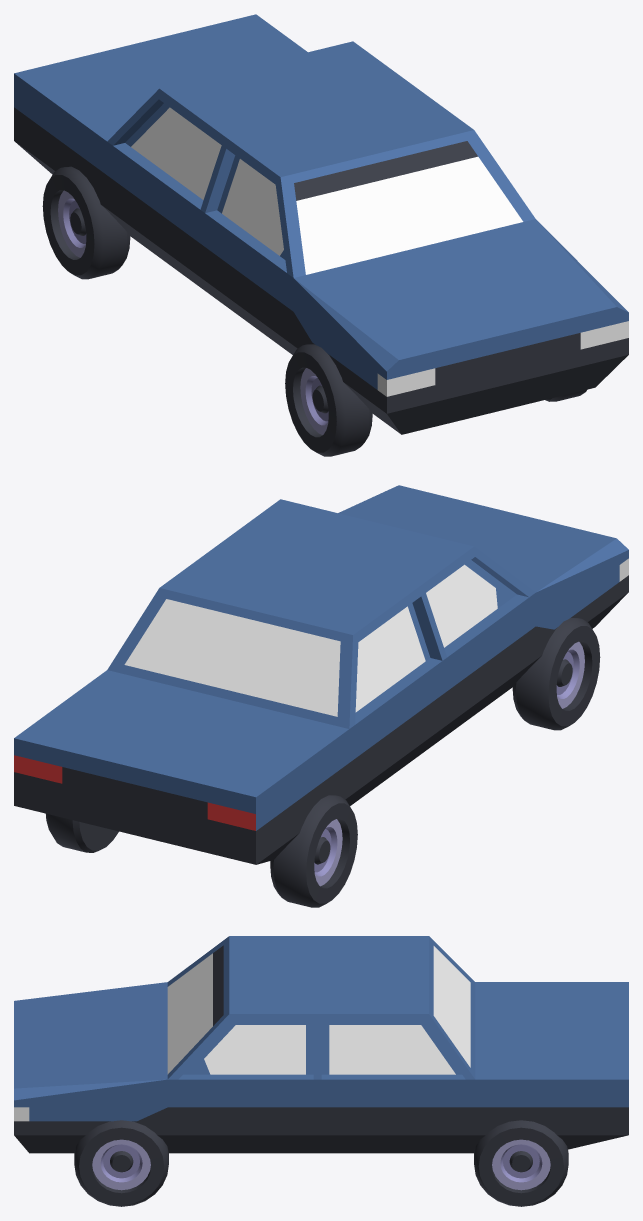
The model's file is Old blue car.fbx.
3 renders of one model, top to bottom at view 1: azimuth 30°, elevation 25°; view 2: azimuth 150°, elevation 25°; view 3: azimuth 270°, elevation 25°, orthographic. The views are drawn at different scales.
Visible parts, largest first — view 1: mergedBlocks; view 2: mergedBlocks; view 3: mergedBlocks.
Boxes of the visible parts, <box> form: mergedBlocks: <box>14,14,628,456</box>; mergedBlocks: <box>14,485,628,907</box>; mergedBlocks: <box>14,936,628,1206</box>.
Bounding box in the file's own units: 16.16 × 13.08 × 40.
